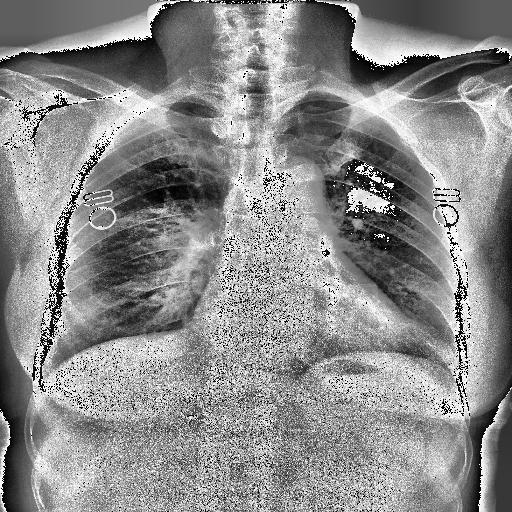0- Aortic enlargement: (262, 156, 329, 214)
3- Cardiomegaly: (193, 299, 432, 373), (192, 292, 410, 368), (192, 292, 414, 359)
